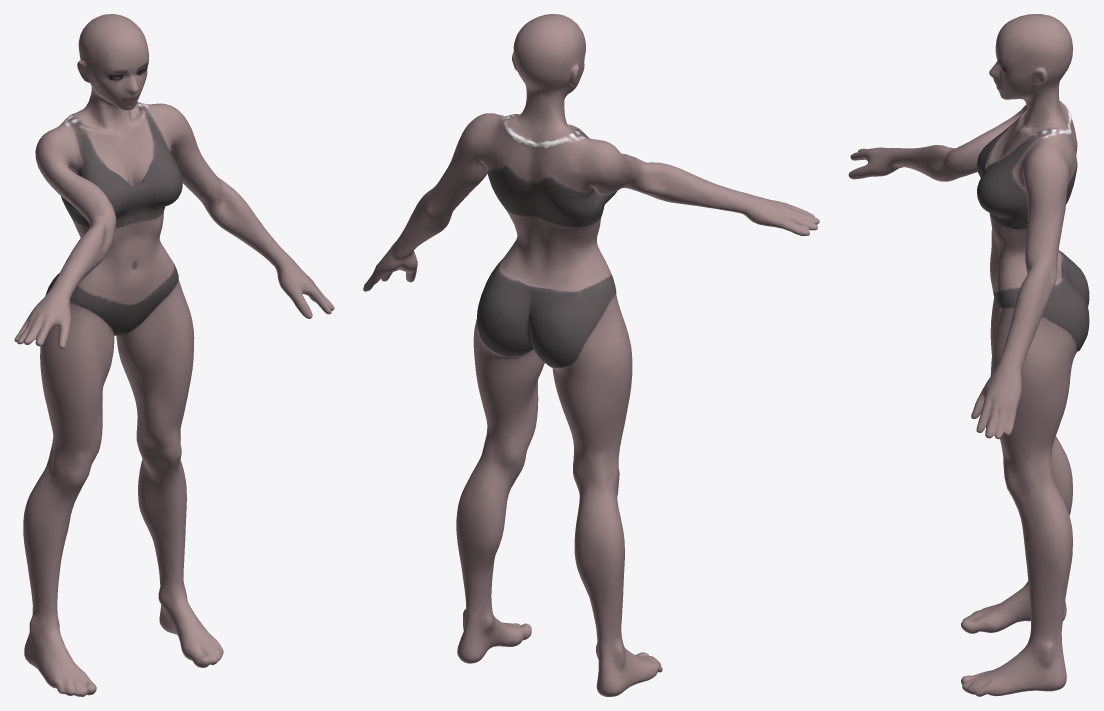
File: 14-UpperArmL-60-child60-twist-20-baseline.glb
The picture shows the model from 3 angles, left to right: view 1: azimuth 30°, elevation 25°; view 2: azimuth 150°, elevation 25°; view 3: azimuth 270°, elevation 25°; orthographic projection. The views are drawn at different scales.
Visible parts, largest first — view 1: baseline; view 2: baseline; view 3: baseline.
Part boxes in pixels (x1,y1,x2,y2): baseline: [14, 14, 334, 696]; baseline: [363, 14, 819, 696]; baseline: [848, 14, 1089, 696].
Bounding box in the file's own units: 0.6182 × 1 × 0.3406.
Materials: 1 (1 with a texture image).
